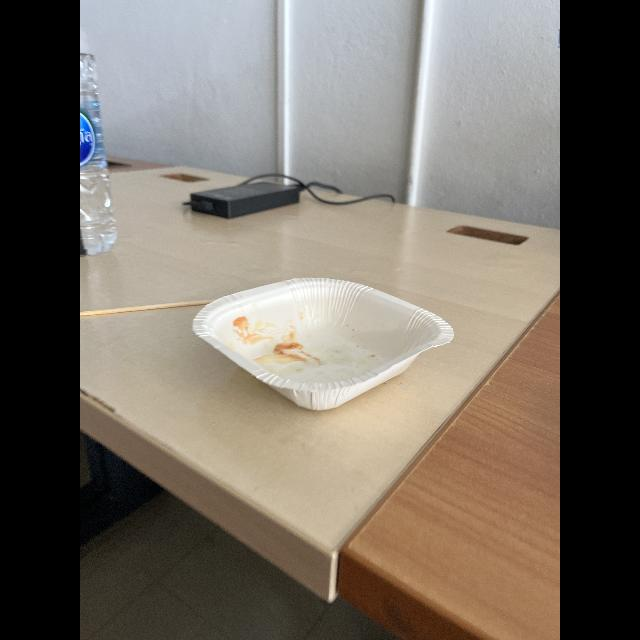cardboard_bowl: (188, 268, 458, 420)
stick: (80, 298, 218, 320)
